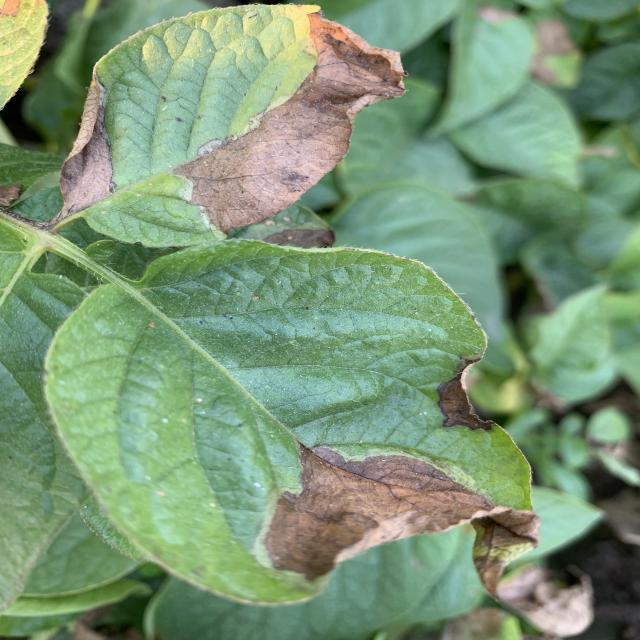lateblight: (173, 14, 405, 231), (263, 445, 540, 595), (53, 76, 113, 222), (437, 360, 493, 430)
